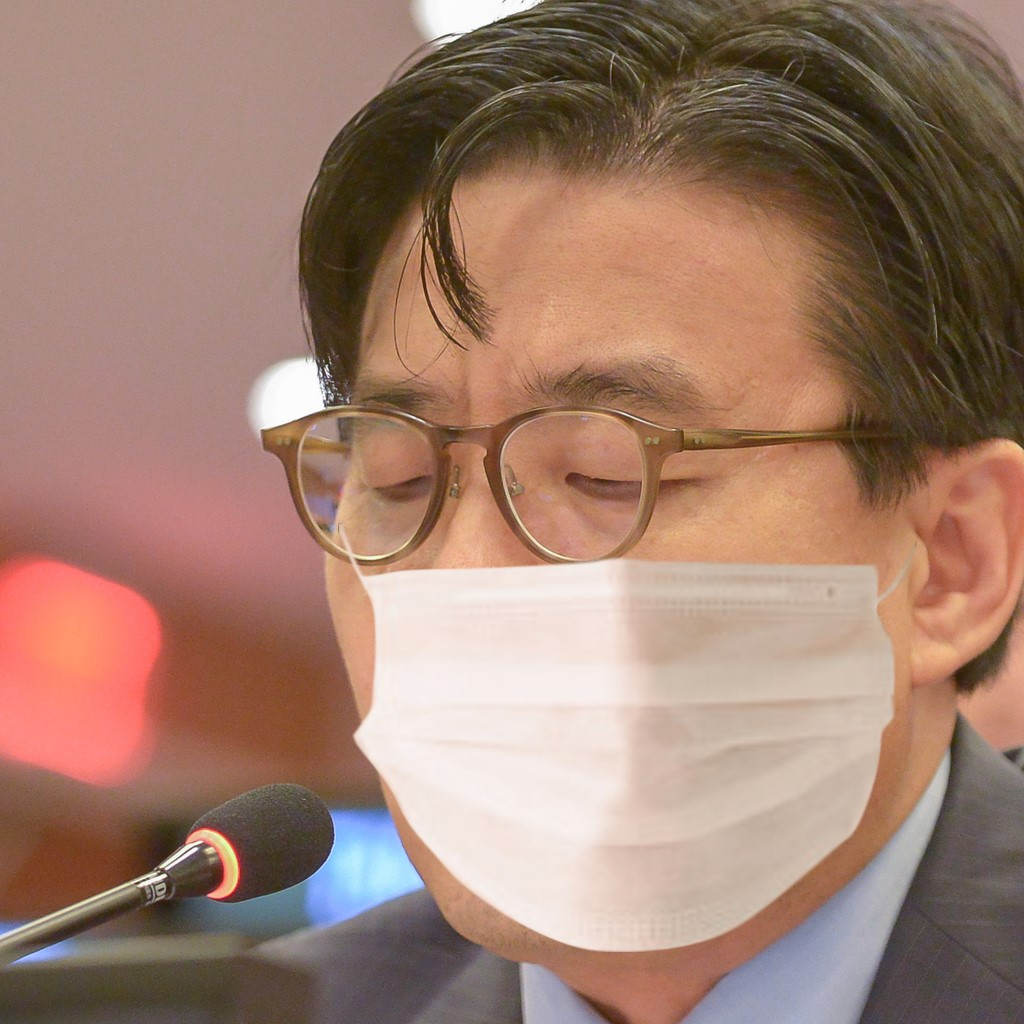con_mascara: (263, 127, 1015, 967)
